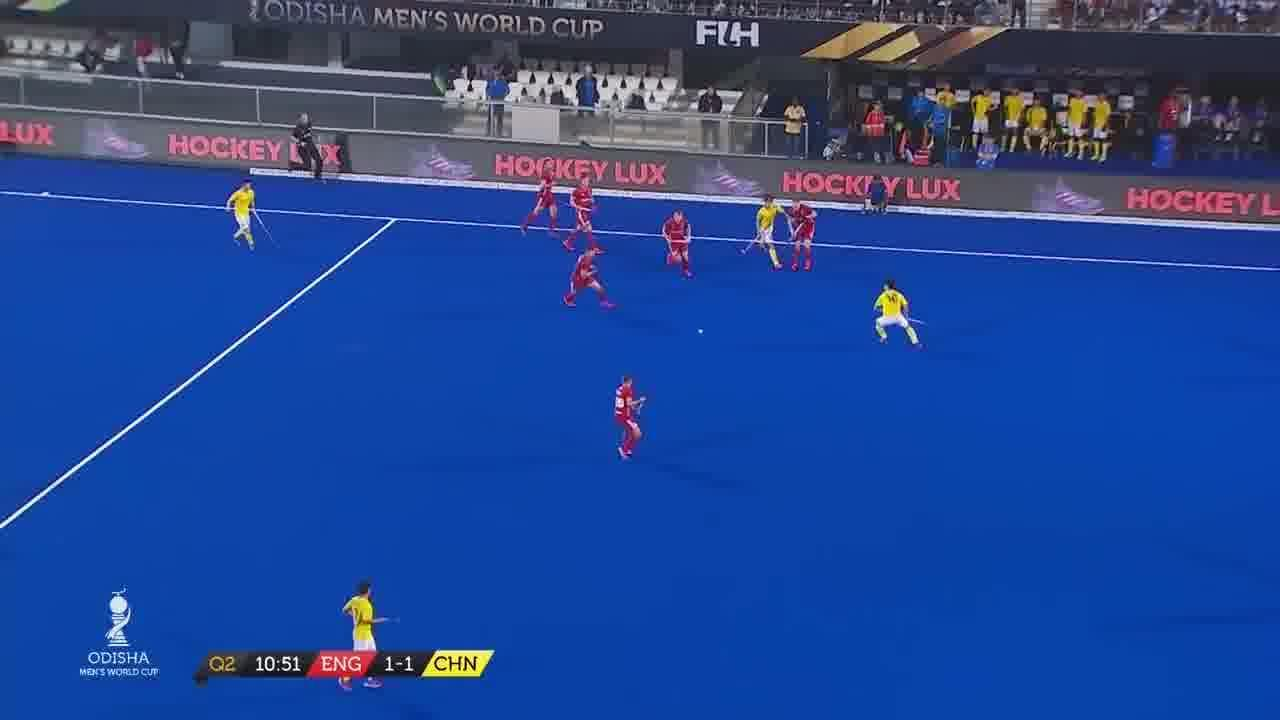ball: (696, 328, 706, 334)
